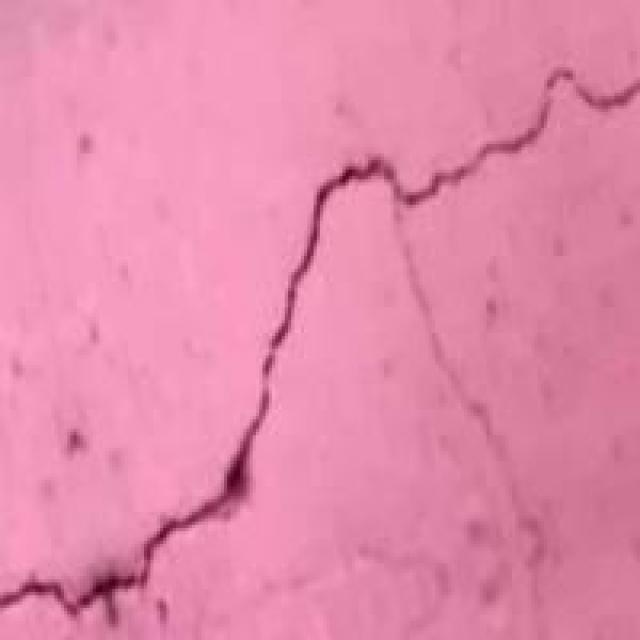crack: (0, 102, 438, 636)
